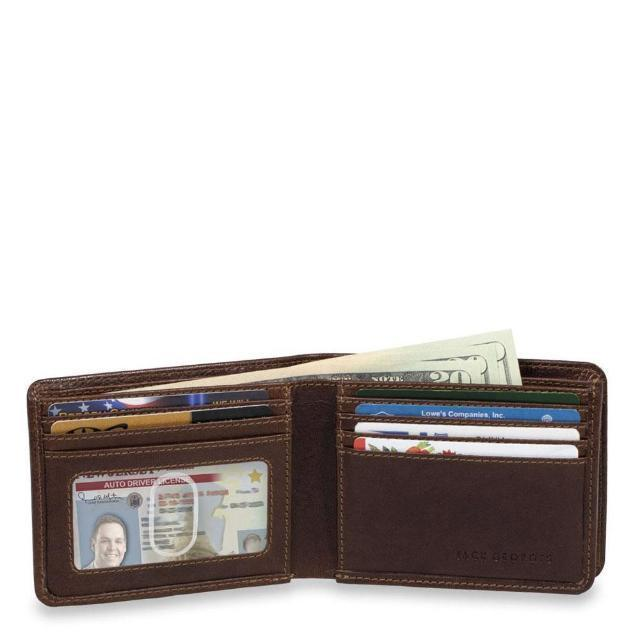wallet: (22, 342, 610, 602)
